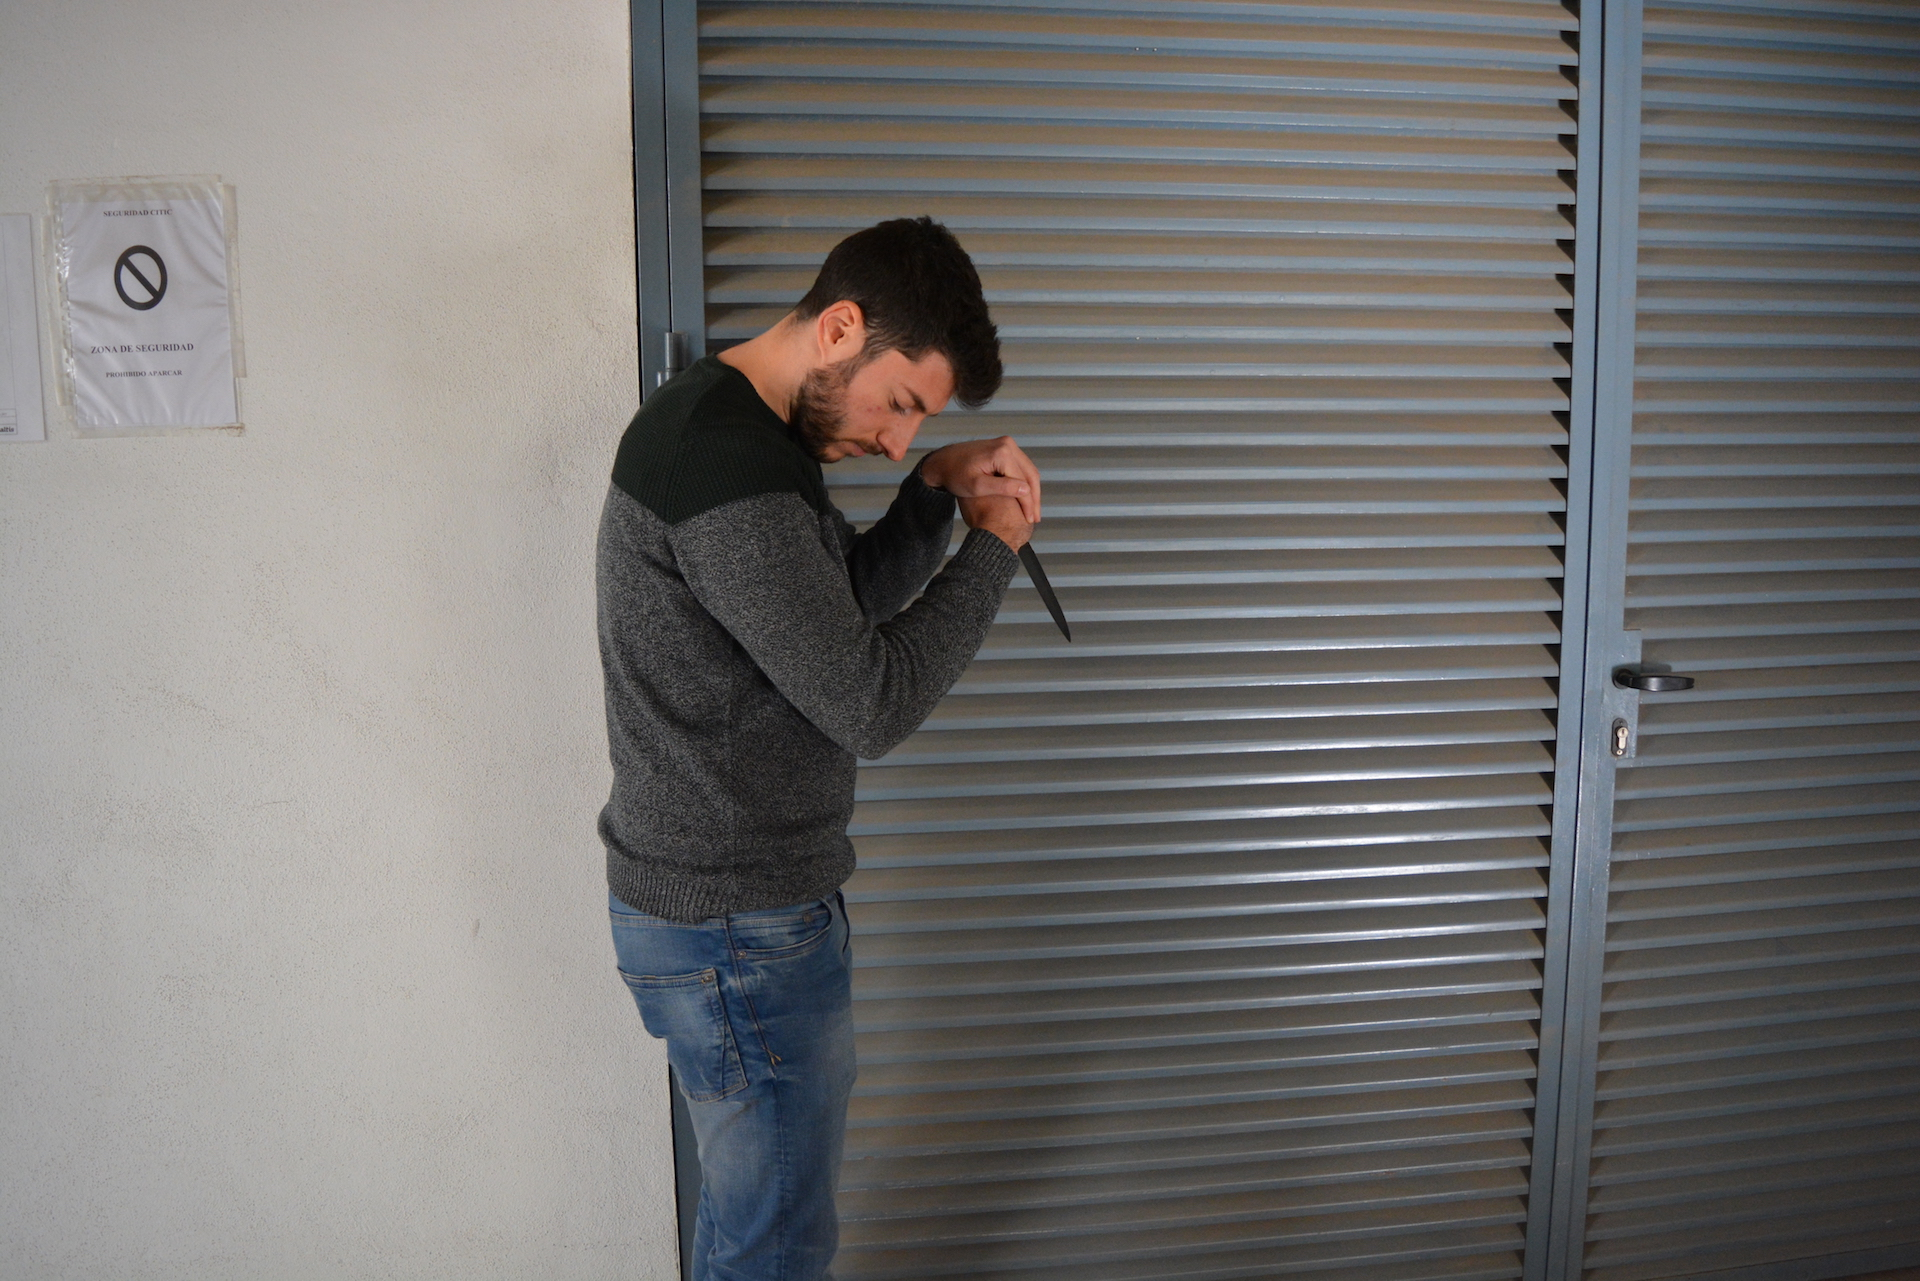knife: (1005, 518, 1081, 656)
